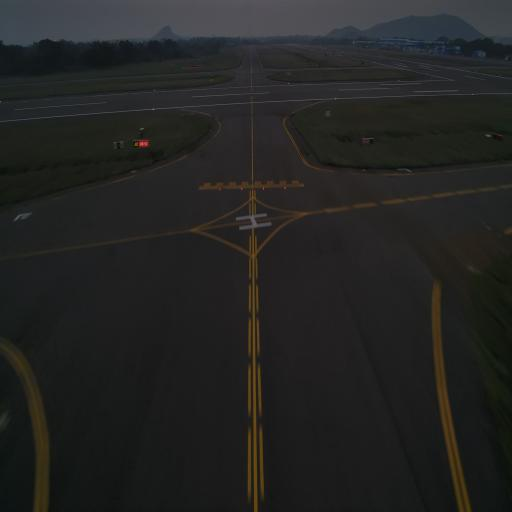on: (239, 184, 244, 196), (260, 182, 266, 192), (283, 180, 288, 192), (218, 183, 223, 193)
